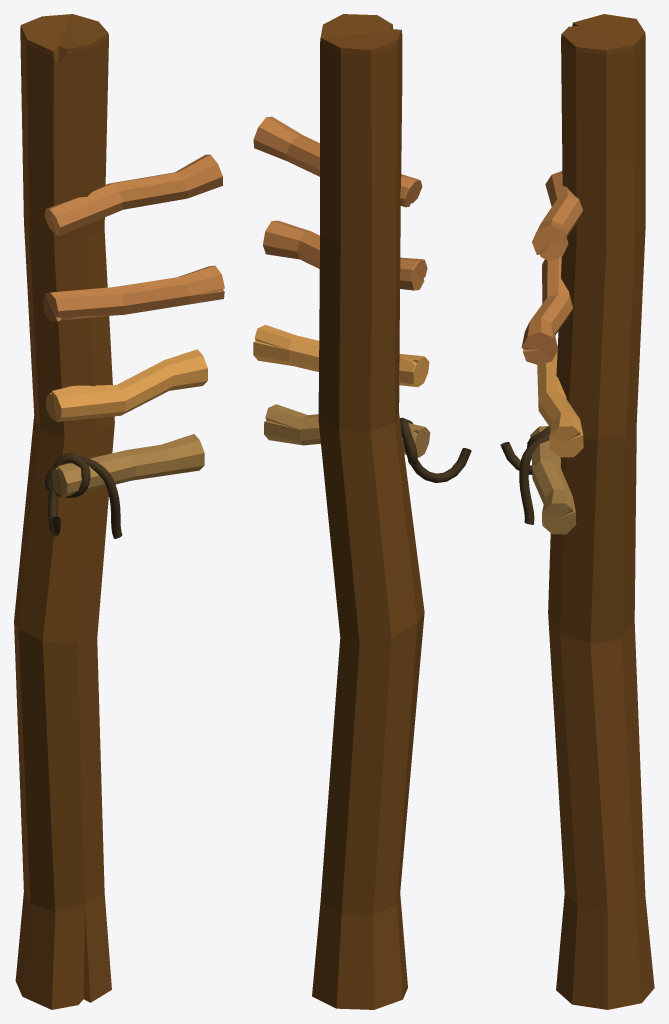
File: Beach_House_Ladder_02.fbx
The picture shows the model from 3 angles, left to right: view 1: azimuth 30°, elevation 25°; view 2: azimuth 150°, elevation 25°; view 3: azimuth 270°, elevation 25°; orthographic projection.
Visible parts, largest first — view 1: Beach_House_Ladder_02; view 2: Beach_House_Ladder_02; view 3: Beach_House_Ladder_02.
Part boxes in pixels (bbox=[...]): Beach_House_Ladder_02: bbox=[14, 14, 224, 1009]; Beach_House_Ladder_02: bbox=[253, 14, 471, 1009]; Beach_House_Ladder_02: bbox=[500, 14, 654, 1009].
Size of the model in its own units: 1.8 by 8.67 by 1.26.
